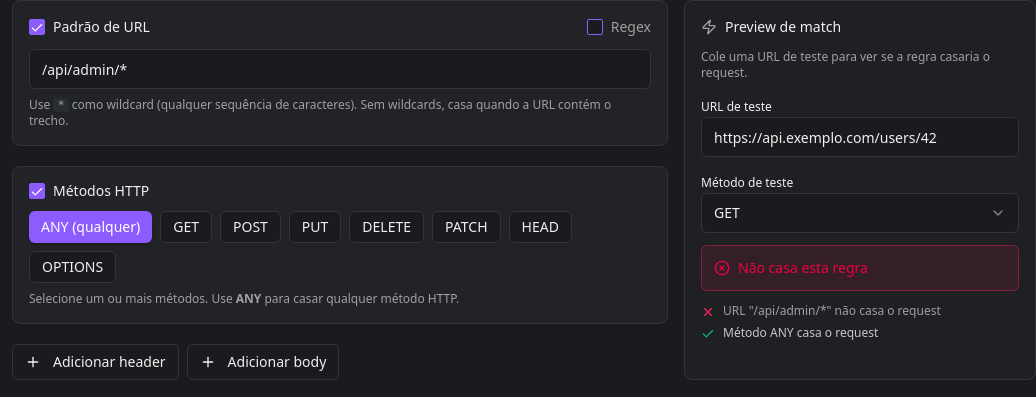
UnifiedMatcherEditor › preview reage a mudanca da URL de teste
Expected: the element with test id "unified-preview-result" shows "Não casa", x1=738 y1=258 x2=868 y2=277
Type "https://example.com/api/admin/dashboard" into the field with test id "unified-test-url-input".
click(860, 137); type("https://example.com/api/admin/dashboard")  # box x1=701 y1=117 x2=1019 y2=157
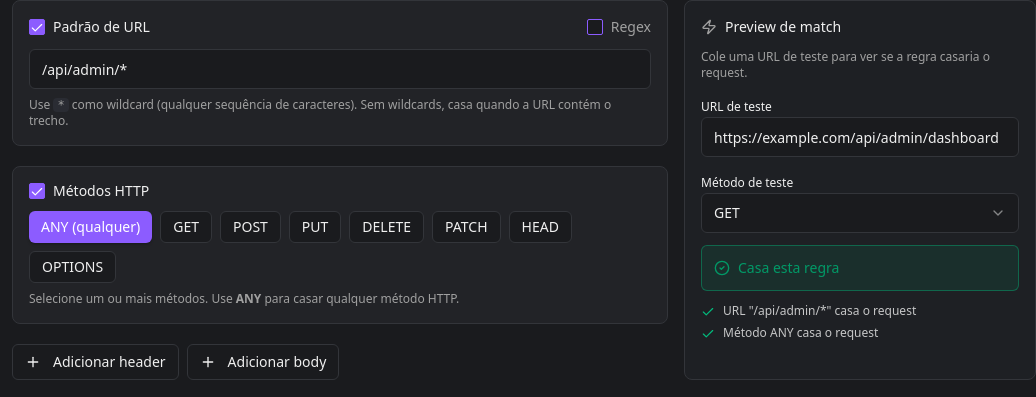
Expected: the element with test id "unified-preview-result" reads "Casa esta regra", x1=738 y1=258 x2=839 y2=277
